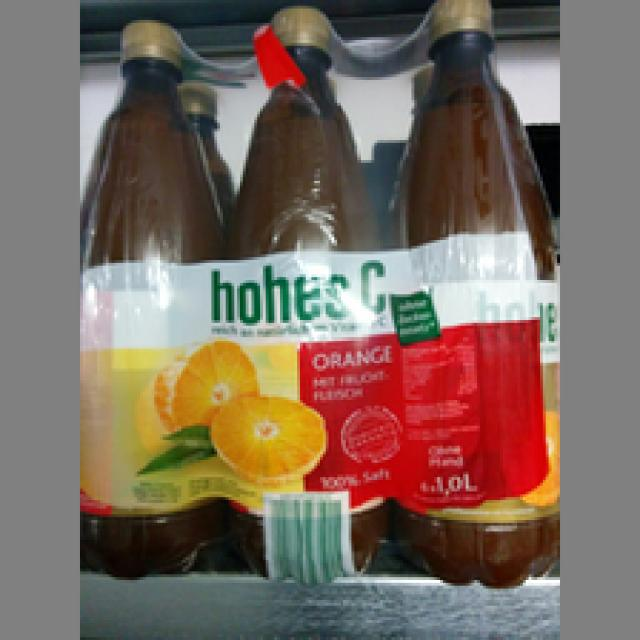groceries: (389, 0, 557, 586), (226, 6, 391, 568), (80, 17, 226, 569)
